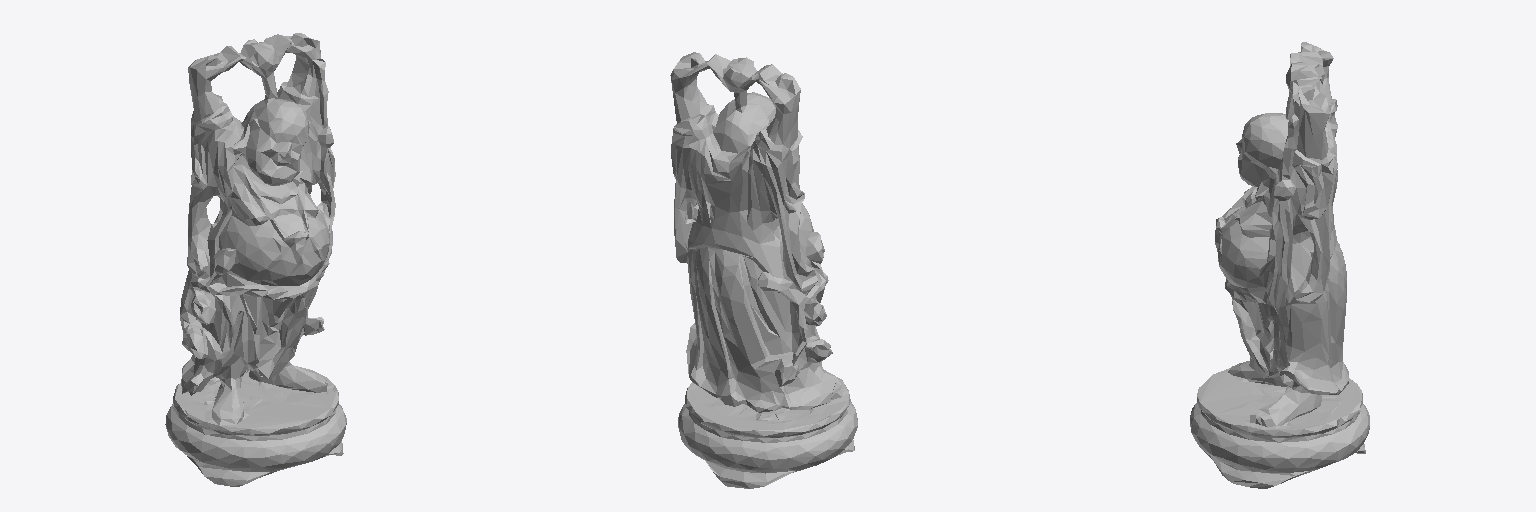
File: buddha_5k.obj
3 views of the same model, side by side, from view 1: azimuth 30°, elevation 25°; view 2: azimuth 150°, elevation 25°; view 3: azimuth 270°, elevation 25° (orthographic).
Parts seen in each view (by area): view 1: default; view 2: default; view 3: default.
Boxes of the visible parts, <box> form: default: <box>165,33,346,486</box>; default: <box>670,52,857,488</box>; default: <box>1190,42,1369,488</box>.
Size of the model in its own units: 29.71 by 72.02 by 29.65.